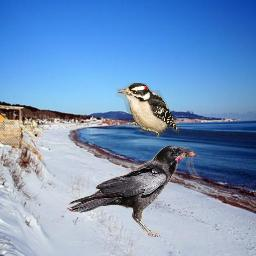Crow: (66, 142, 207, 237)
Woodpecker: (116, 83, 179, 138)
